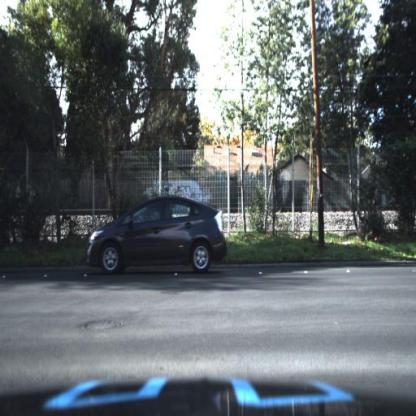car: (87, 195, 227, 279)
